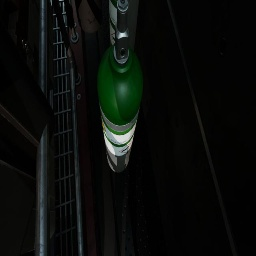0: (97, 0, 143, 173), (109, 0, 139, 51)
NitrogenTank ,: (74, 0, 103, 34)
